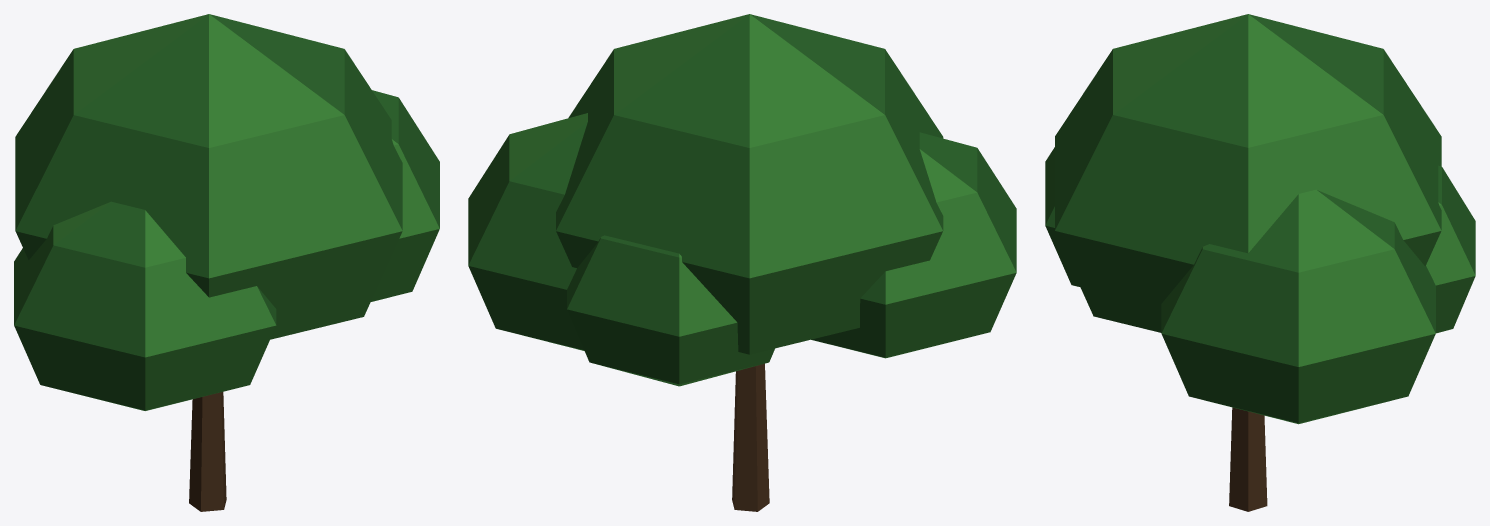
Rendered from pohon.glb.
3 views of the same model, side by side, from view 1: azimuth 30°, elevation 25°; view 2: azimuth 150°, elevation 25°; view 3: azimuth 270°, elevation 25° (orthographic).
Parts seen in each view (by area): view 1: potongan_pohon; view 2: potongan_pohon; view 3: potongan_pohon.
Boxes of the visible parts, left/top/right/bottom form: potongan_pohon: left=14, top=14, right=439, bottom=511; potongan_pohon: left=468, top=14, right=1016, bottom=511; potongan_pohon: left=1045, top=14, right=1475, bottom=511.
Size of the model in its own units: 7.8 by 7.5 by 5.98.
